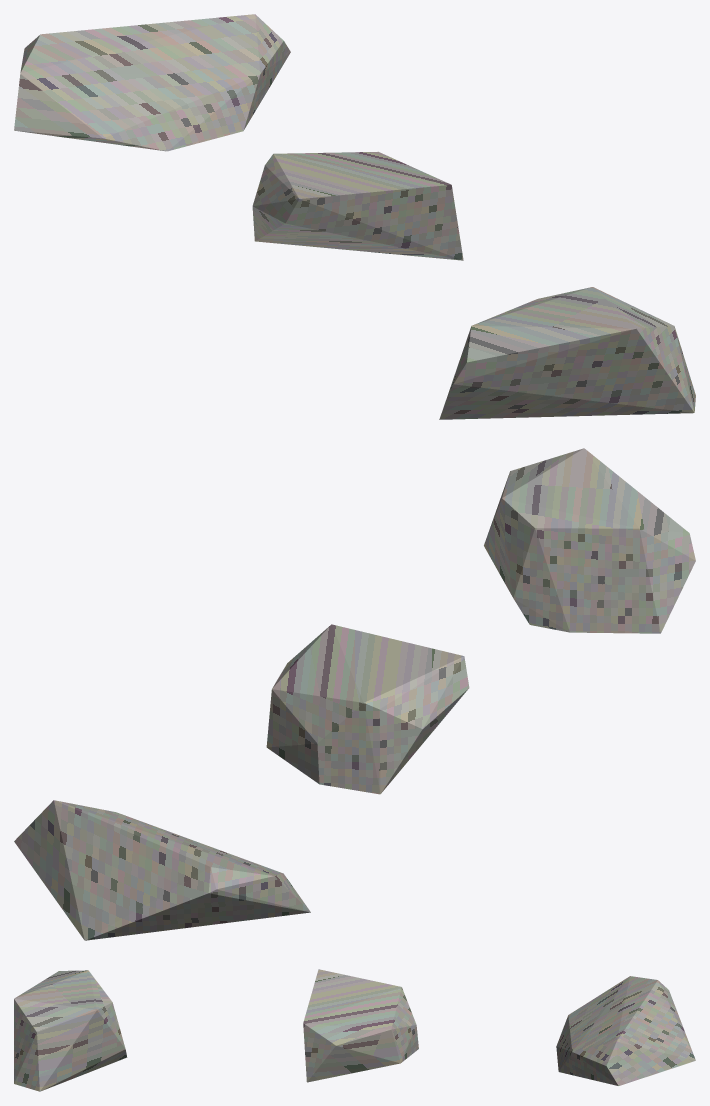
Rendered from roca.glb.
3 views of the same model, one above another, from view 1: azimuth 30°, elevation 25°; view 2: azimuth 150°, elevation 25°; view 3: azimuth 270°, elevation 25° (orthographic). The views are drawn at different scales.
Parts seen in each view (by area): view 1: roca_c, roca_a, roca_b; view 2: roca_a, roca_c, roca_b; view 3: roca_c, roca_a, roca_b.
Boxes of the visible parts, <box> form: roca_c: <box>14,14,290,151</box>; roca_a: <box>439,287,695,419</box>; roca_b: <box>252,151,463,260</box>; roca_a: <box>484,448,695,633</box>; roca_c: <box>14,800,310,940</box>; roca_b: <box>266,624,469,794</box>; roca_c: <box>556,976,695,1085</box>; roca_a: <box>14,970,127,1091</box>; roca_b: <box>303,969,418,1082</box>.
Size of the model in its own units: 1.7 by 0.589 by 5.28.
Materials: 1 (1 with a texture image).
